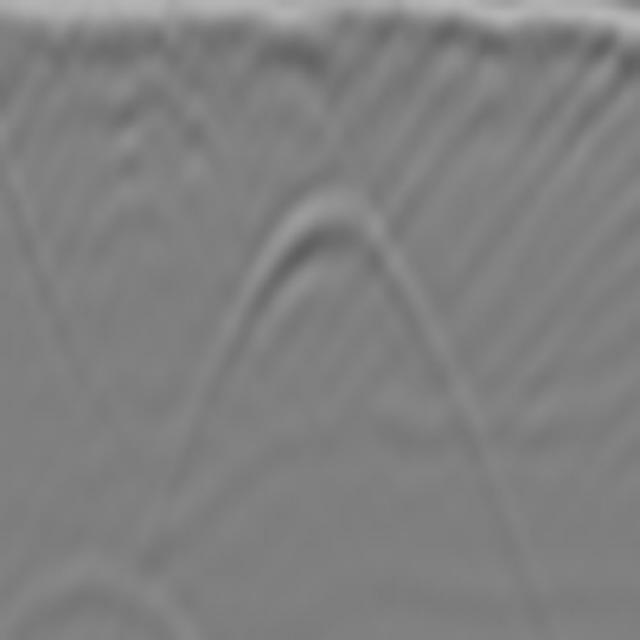hyperbola: (204, 180, 460, 393)
